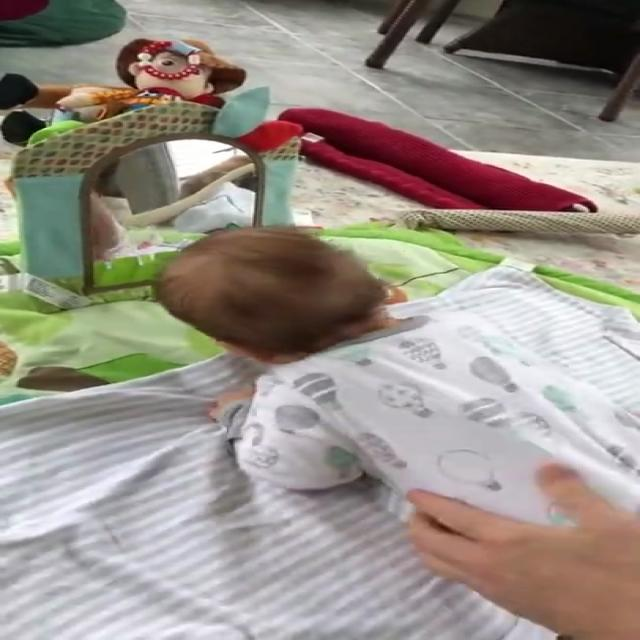baby: (157, 220, 640, 550)
